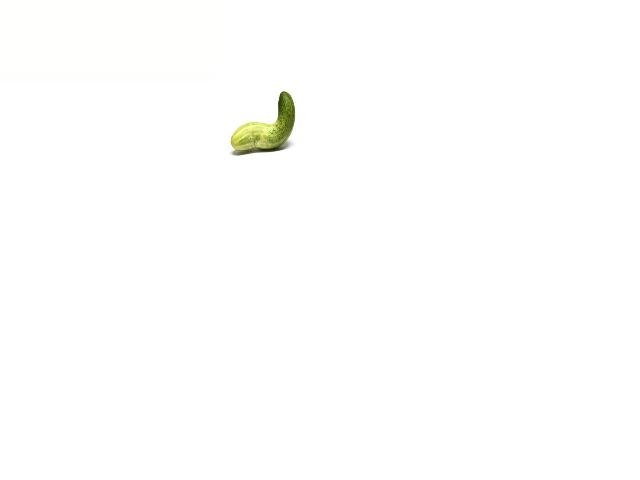cucumber: (231, 91, 295, 151)
